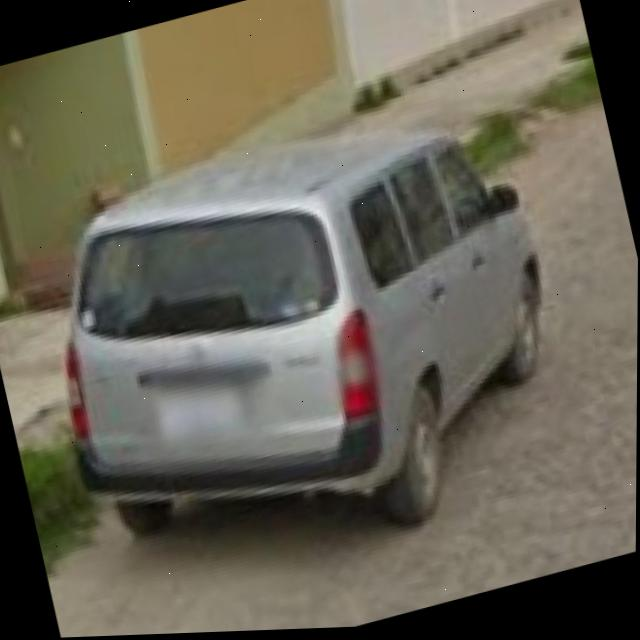vehicle: (0, 58, 620, 632)
